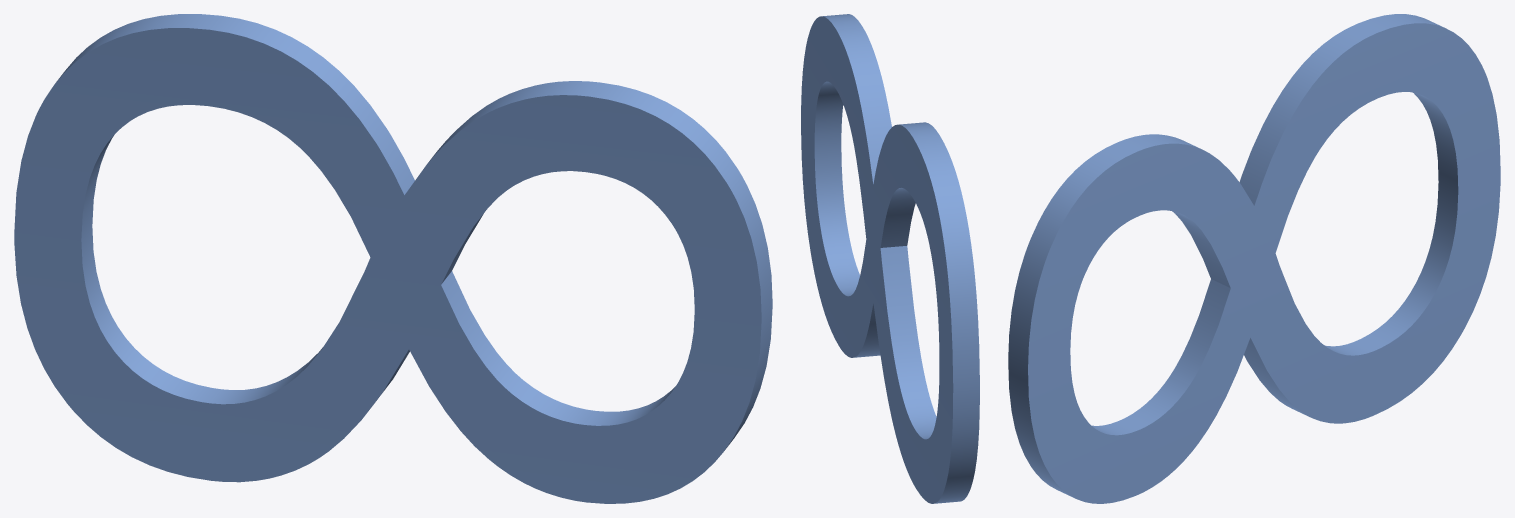
The model's file is New_Number_8.gltf.
3 views of the same model, side by side, from view 1: azimuth 30°, elevation 25°; view 2: azimuth 150°, elevation 25°; view 3: azimuth 270°, elevation 25° (orthographic). The views are drawn at different scales.
Parts seen in each view (by area): view 1: Part 188; view 2: Part 188; view 3: Part 188.
Part boxes in pixels (x1,y1,x2,y2): Part 188: [14, 14, 772, 503]; Part 188: [801, 14, 979, 503]; Part 188: [1008, 14, 1500, 503].
Size of the model in its own units: 0.00416 by 0.00362 by 0.00421.
